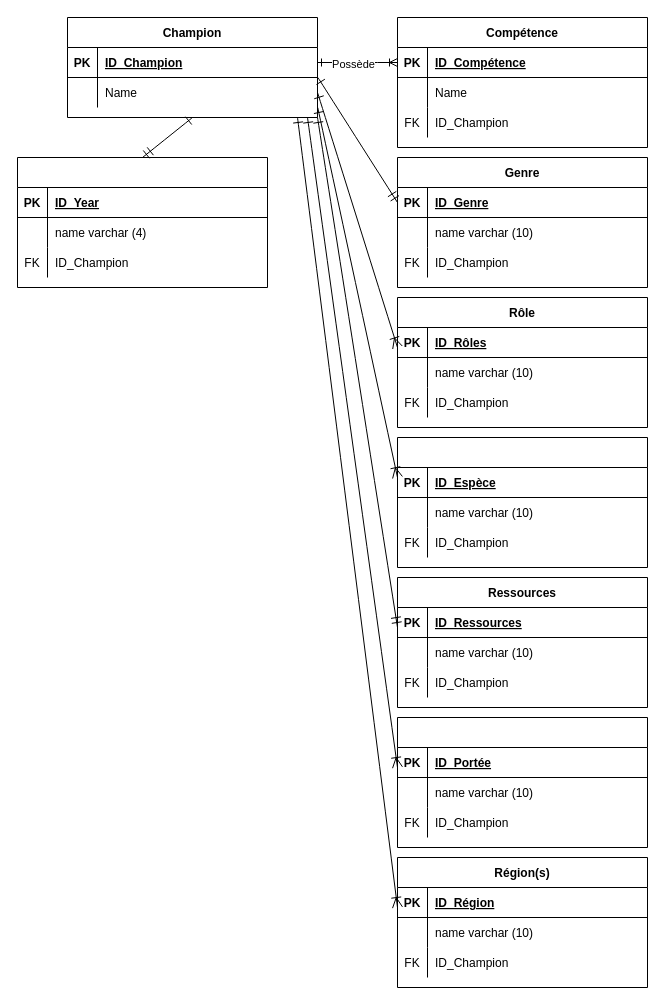
The diagram is 665 pixels wide and 1005 high, and some of its shapes have lost their labels. The box of each missing label's shape, as (x1, y1, x2, y2) in pixels:
Année de sortie: (16, 156, 268, 288)
Espèces: (396, 436, 648, 568)
Type de portée: (396, 716, 648, 848)
